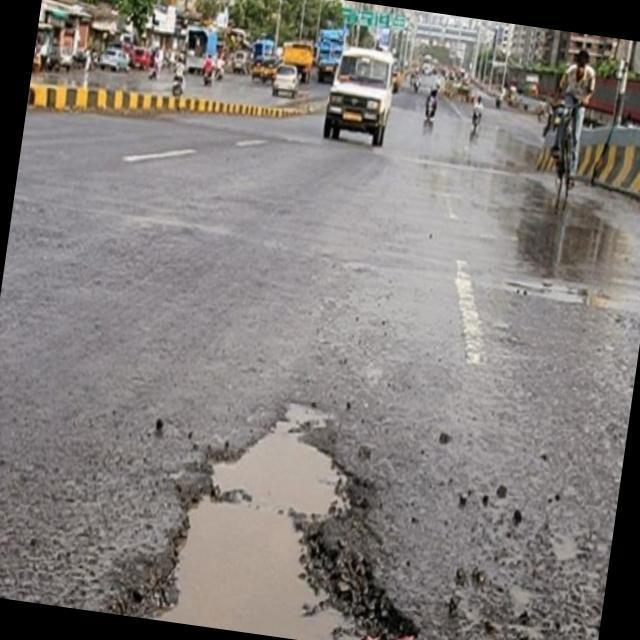Pothole: (155, 433, 357, 640)
